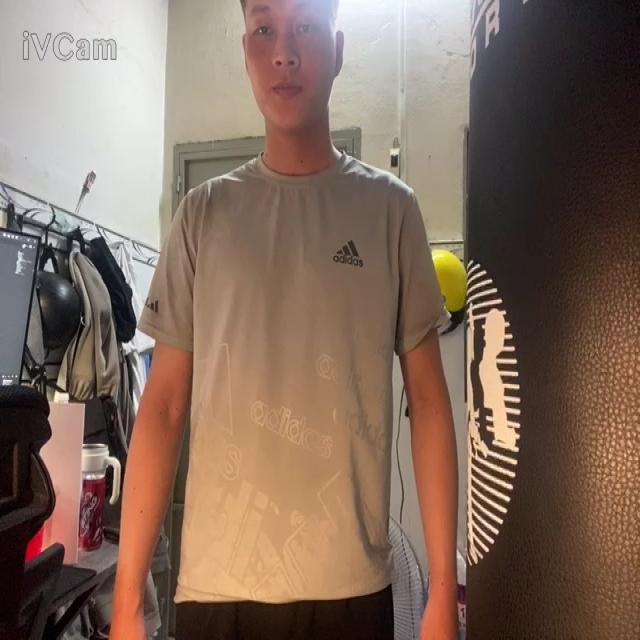u: (141, 155, 443, 604)
